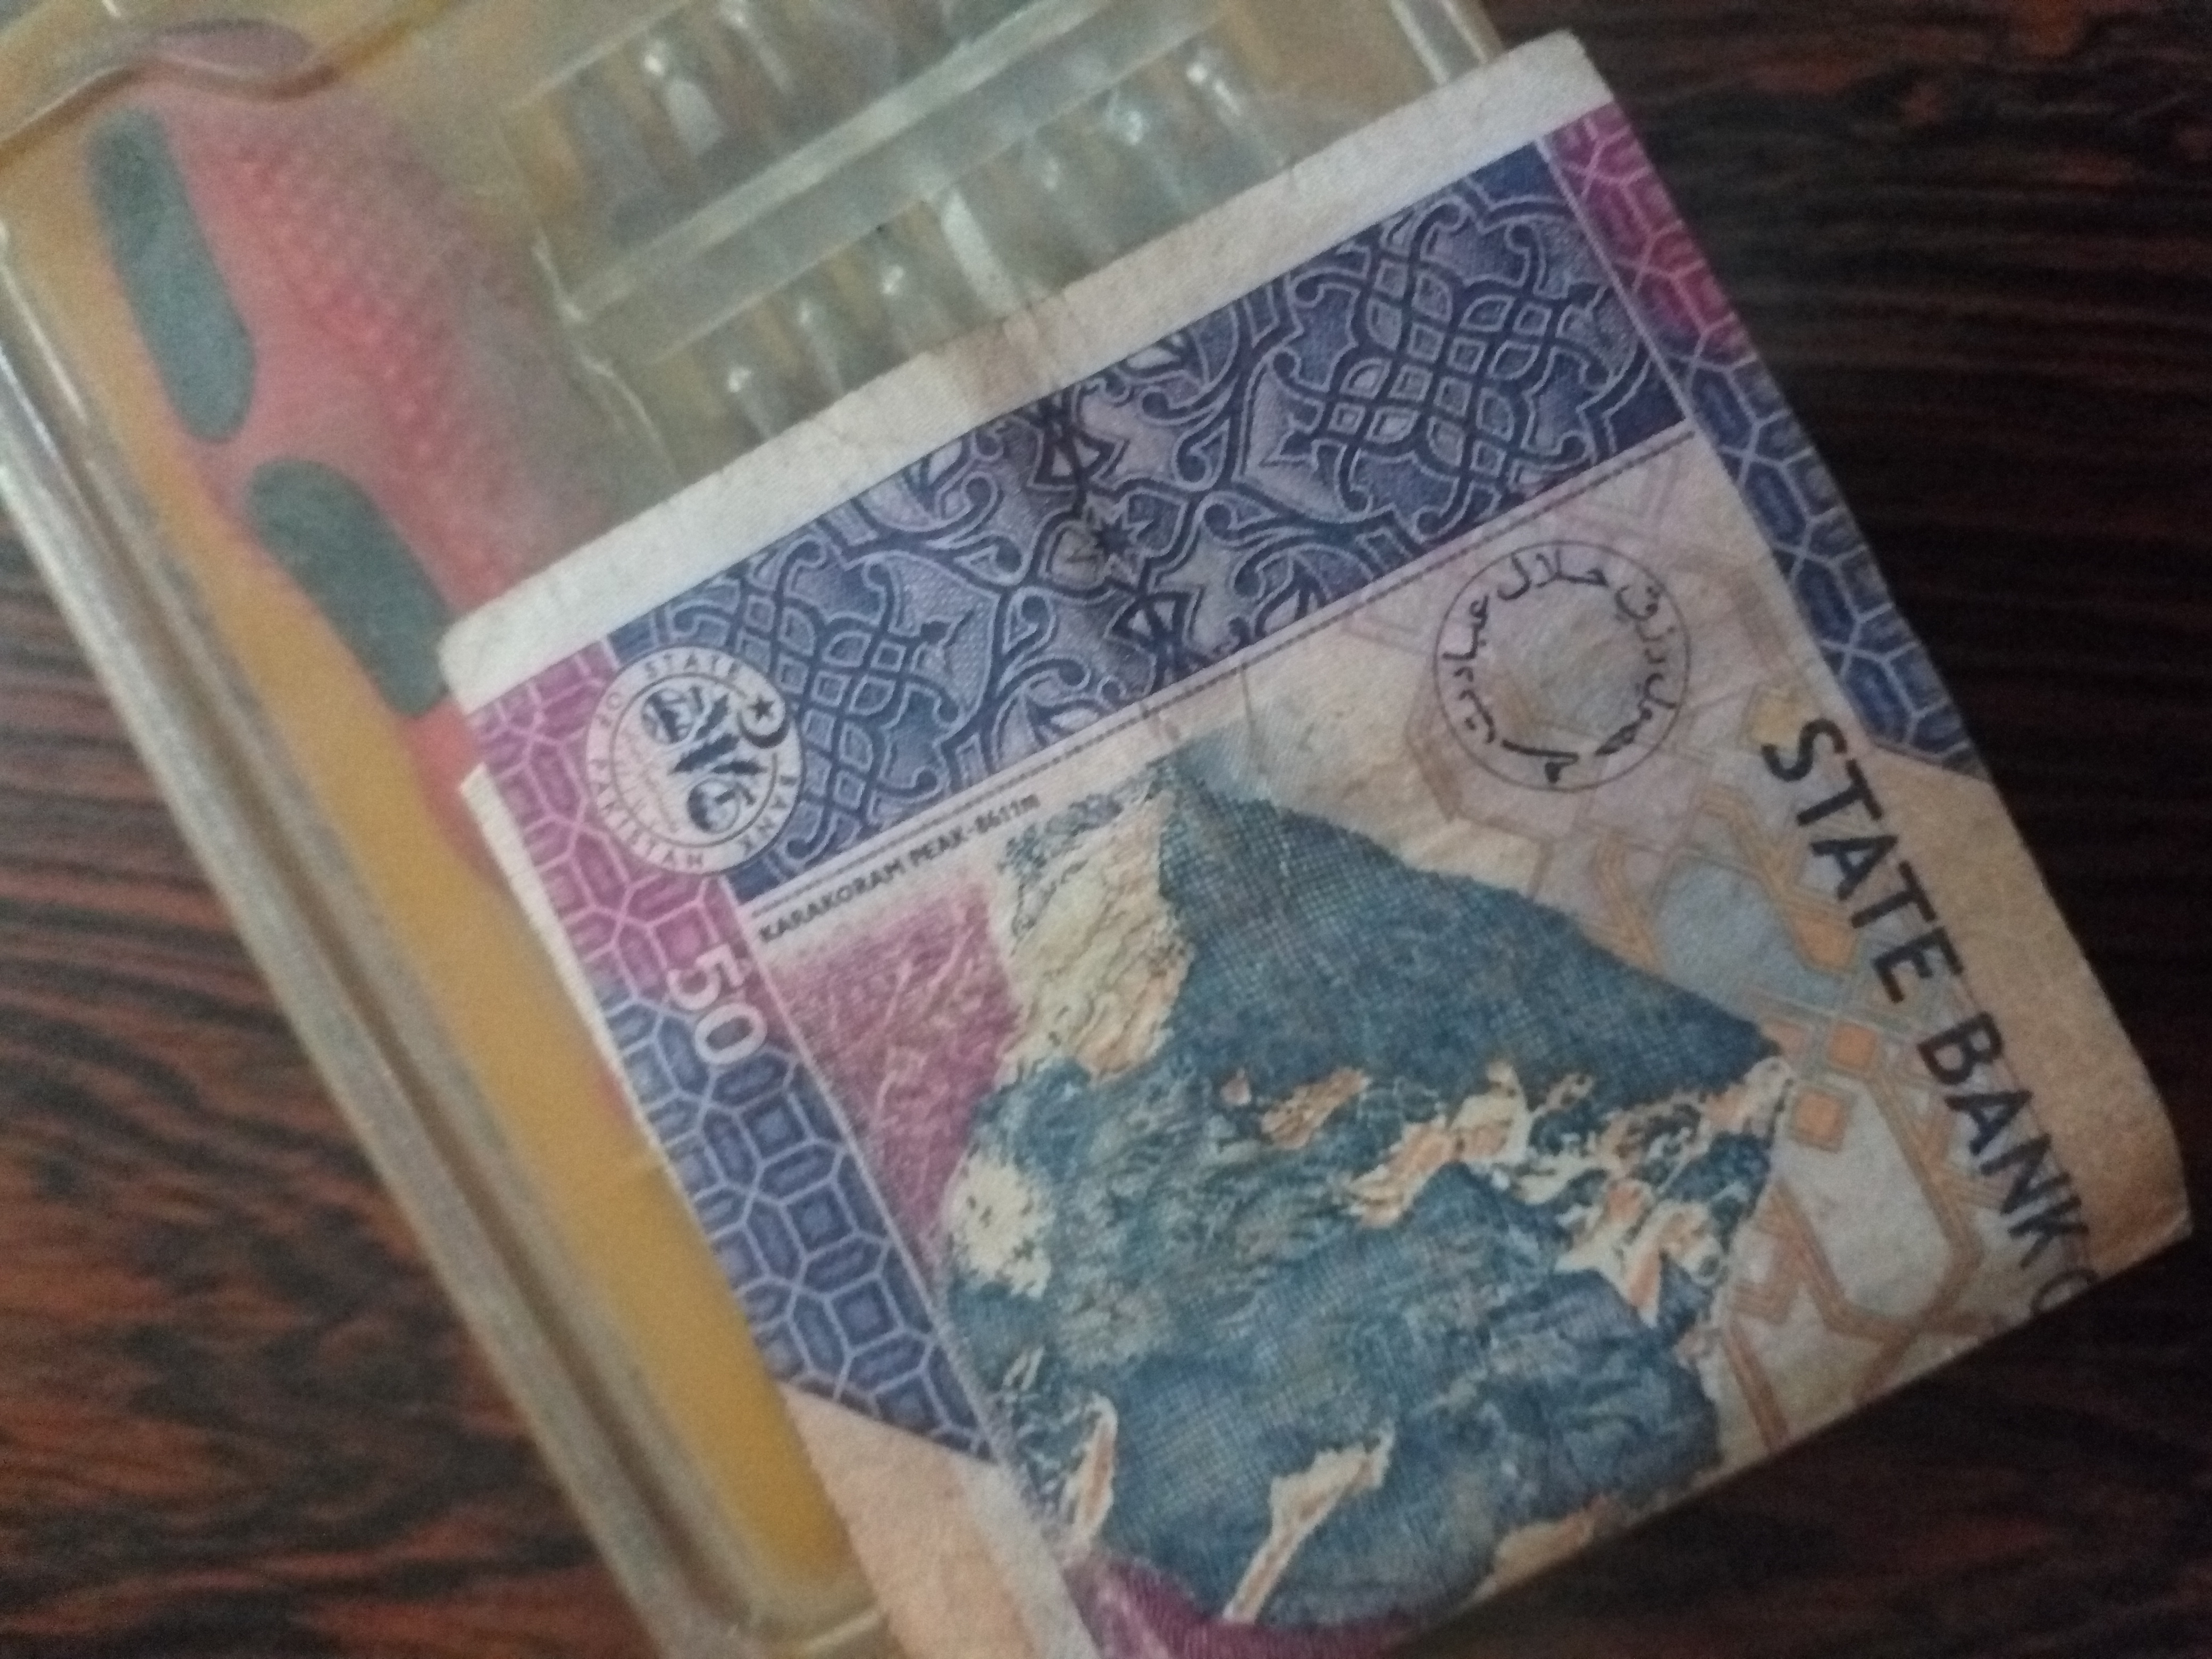50 rupee: (474, 85, 2212, 1659)
